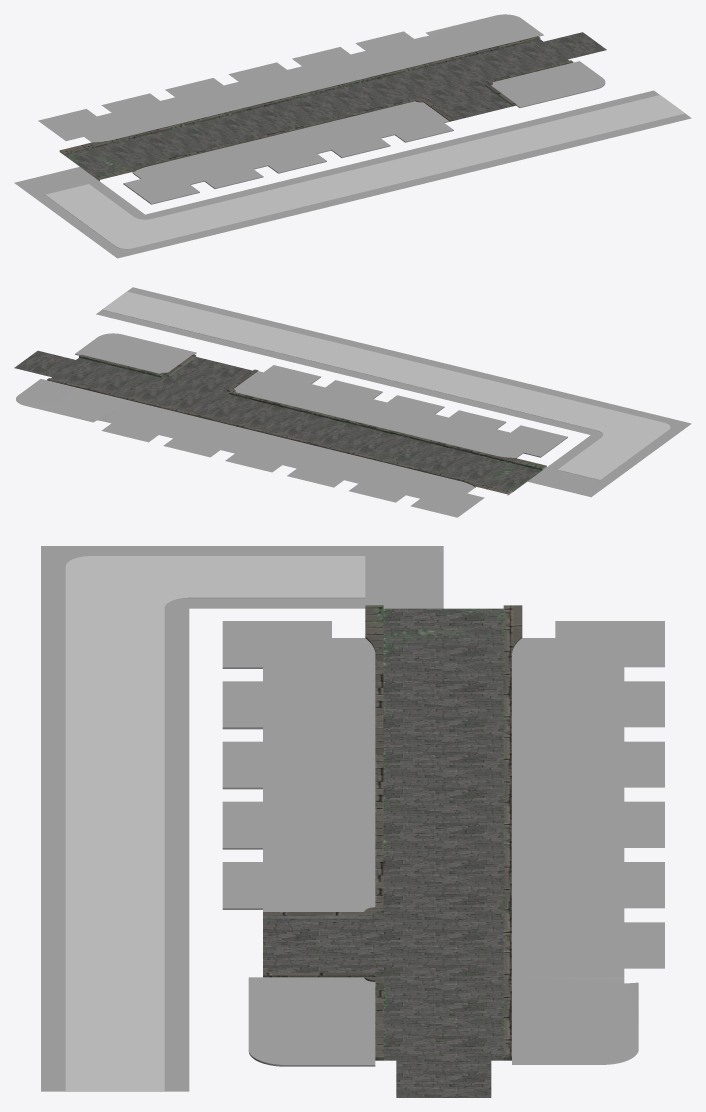
Rendered from GRP_Cour_01.fbx.
3 renders of one model, top to bottom at view 1: azimuth 30°, elevation 25°; view 2: azimuth 150°, elevation 25°; view 3: azimuth 270°, elevation 25°, orthographic. The views are drawn at different scales.
Visible parts, largest first — view 1: SM_Sol_Cour_04, SM_Sol_Cour_05, SM_Sol_Cour_02, SM_Sol_Cour_03, SM_Sol_Cour_06, SM_Sol_Cour_01; view 2: SM_Sol_Cour_04, SM_Sol_Cour_05, SM_Sol_Cour_02, SM_Sol_Cour_03, SM_Sol_Cour_06, SM_Sol_Cour_01; view 3: SM_Sol_Cour_04, SM_Sol_Cour_05, SM_Sol_Cour_02, SM_Sol_Cour_03, SM_Sol_Cour_06, SM_Sol_Cour_01.
Boxes of the visible parts, <box> form: SM_Sol_Cour_04: <box>59,32,606,180</box>; SM_Sol_Cour_05: <box>45,95,685,249</box>; SM_Sol_Cour_02: <box>38,14,543,142</box>; SM_Sol_Cour_03: <box>123,101,453,204</box>; SM_Sol_Cour_06: <box>14,90,691,258</box>; SM_Sol_Cour_01: <box>491,61,605,107</box>; SM_Sol_Cour_04: <box>14,350,546,495</box>; SM_Sol_Cour_05: <box>102,291,670,480</box>; SM_Sol_Cour_02: <box>16,379,484,517</box>; SM_Sol_Cour_03: <box>234,365,567,458</box>; SM_Sol_Cour_06: <box>96,287,691,497</box>; SM_Sol_Cour_01: <box>75,333,196,373</box>; SM_Sol_Cour_04: <box>263,605,522,1097</box>; SM_Sol_Cour_05: <box>65,556,365,1091</box>; SM_Sol_Cour_02: <box>512,621,664,1064</box>; SM_Sol_Cour_03: <box>222,621,375,911</box>; SM_Sol_Cour_06: <box>41,546,443,1091</box>; SM_Sol_Cour_01: <box>248,977,375,1066</box>.
Bounding box in the file's own units: 2746 × 7.5 × 1312.
